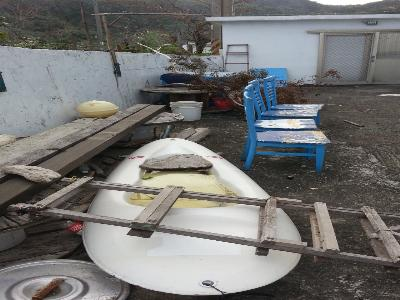bucket: (170, 99, 205, 123)
tub: (83, 134, 303, 299)
